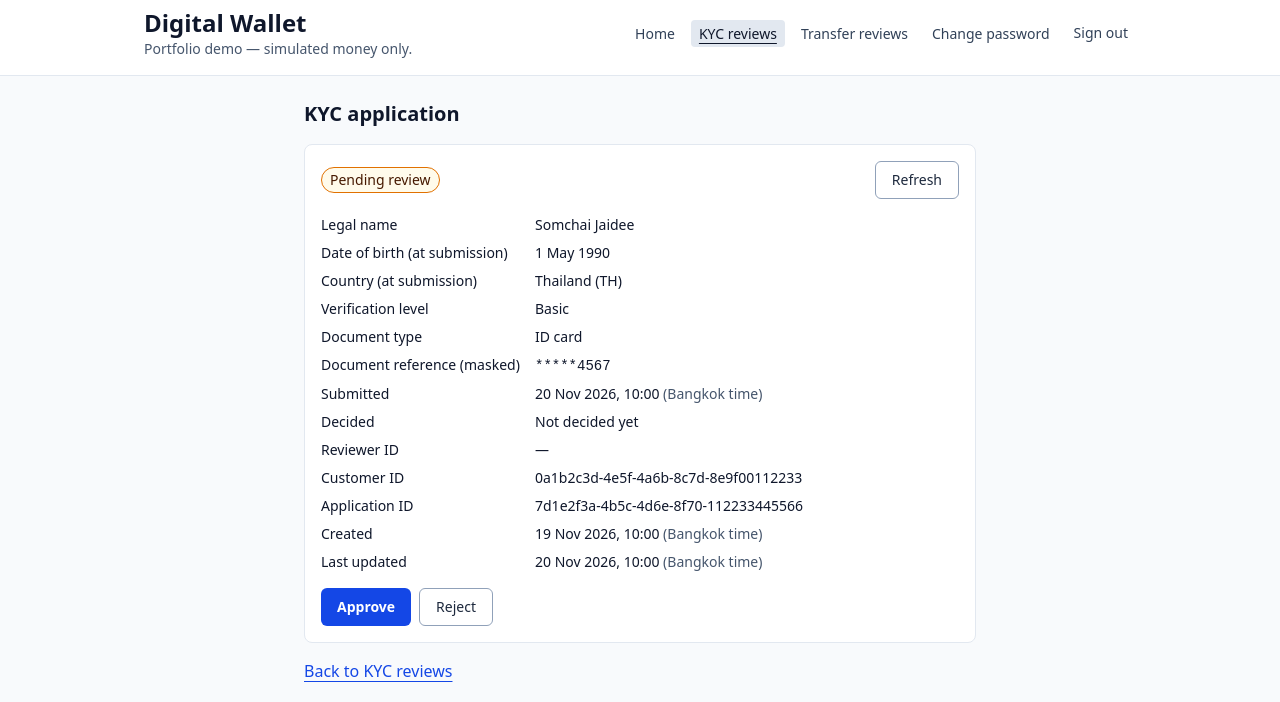
Test: Approve › asks for confirmation; Cancel and Escape close it and return focus without a request
This screenshot has width=1280, height=702.
Click the button "Approve" at x=366, y=607, box x1=321 y1=588 x2=411 y2=626
(page scrolled)
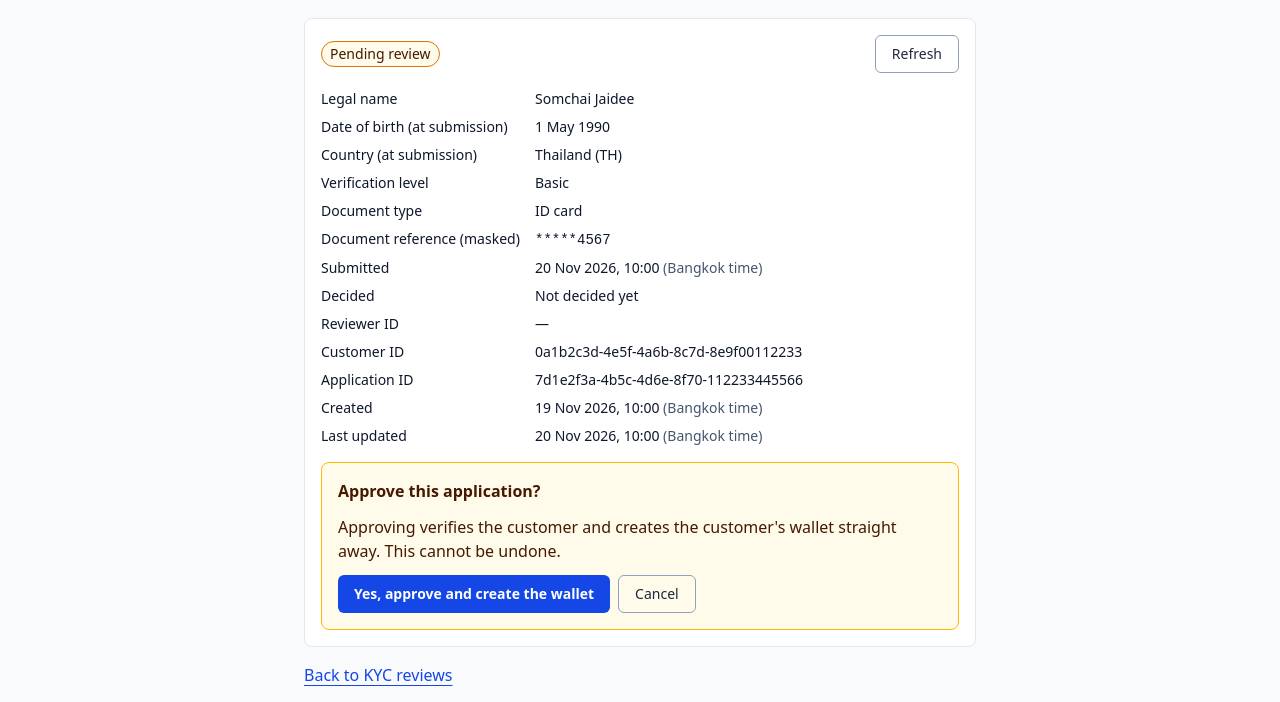
Check: the text "Approving verifies the customer and creates the customer's wallet straight away. This cannot be undone." is shown, box x1=338 y1=516 x2=897 y2=562
Click the button "Cancel" at x=657, y=594, box x1=618 y1=575 x2=696 y2=613
(page scrolled)
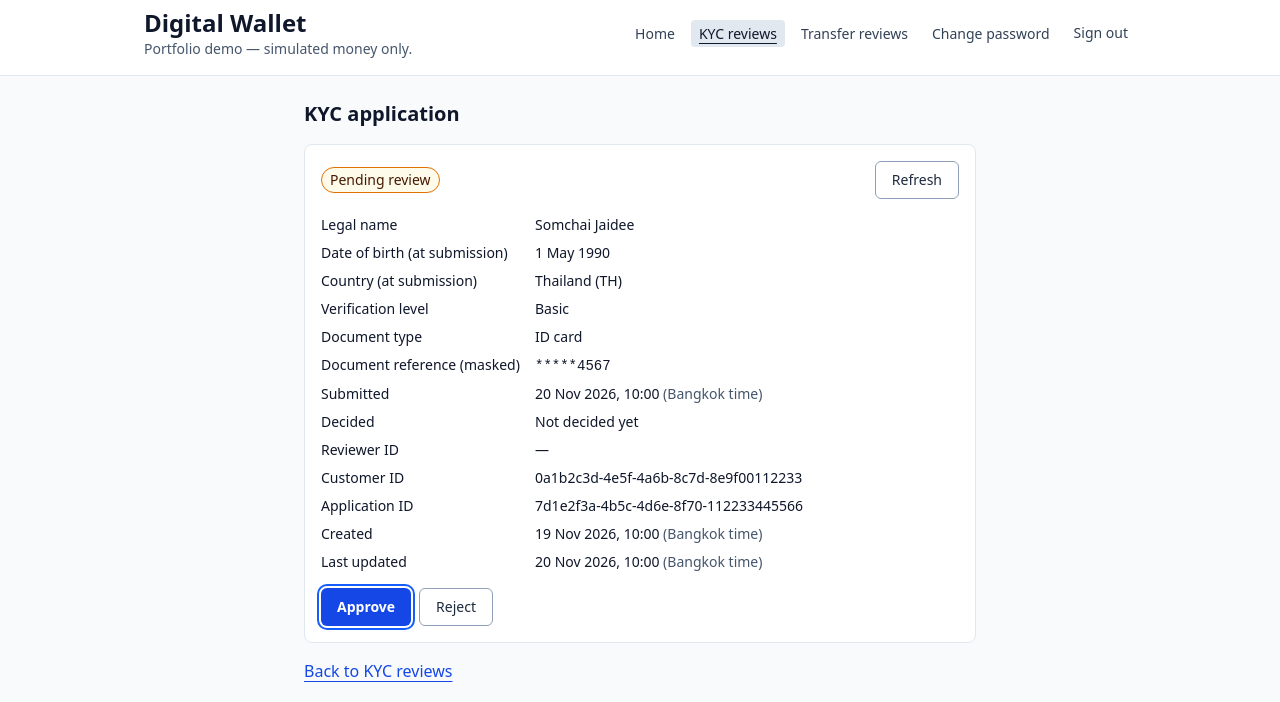
Click the button "Approve" at x=366, y=607, box x1=321 y1=588 x2=411 y2=626
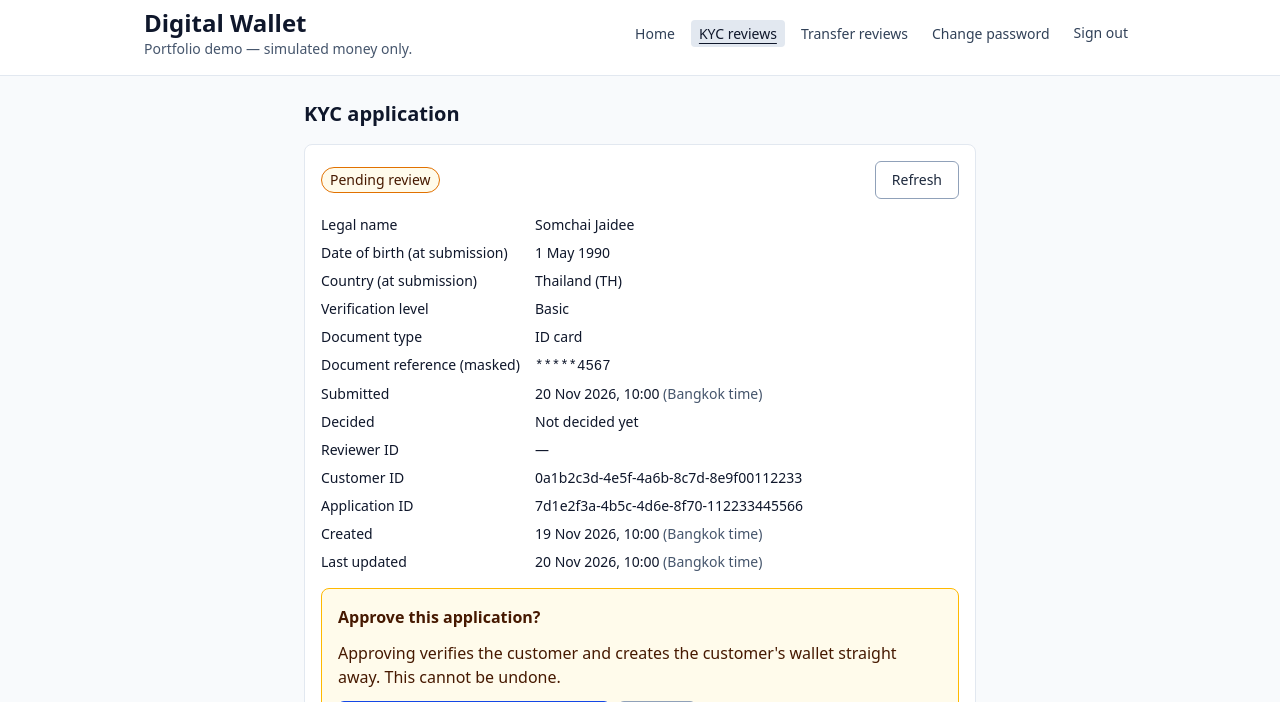
Press Escape
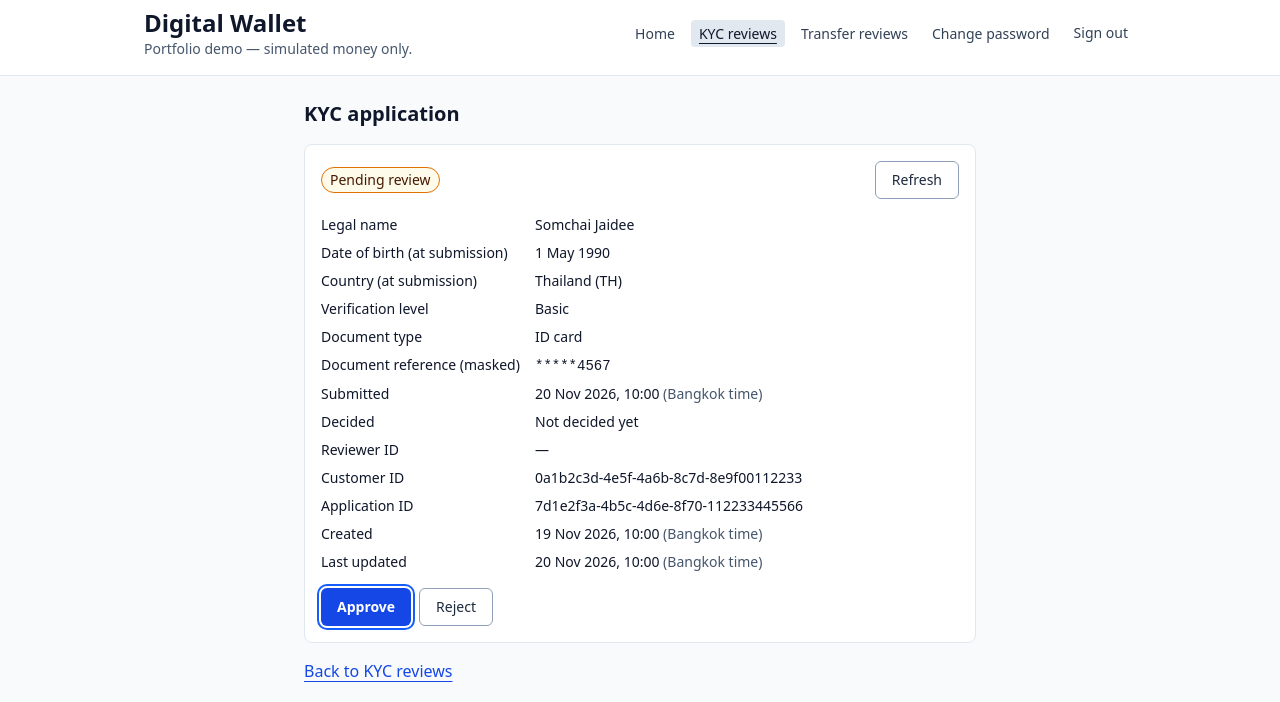
Check: the heading "Approve this application?" is gone
